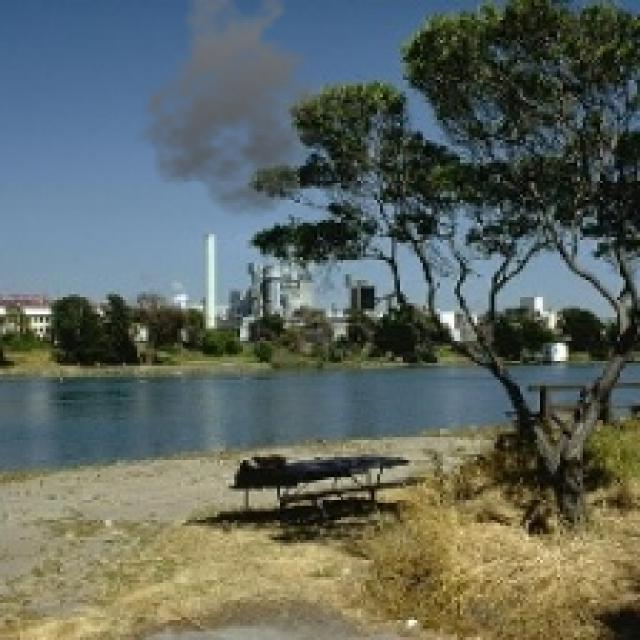smoke: (134, 0, 343, 217)
